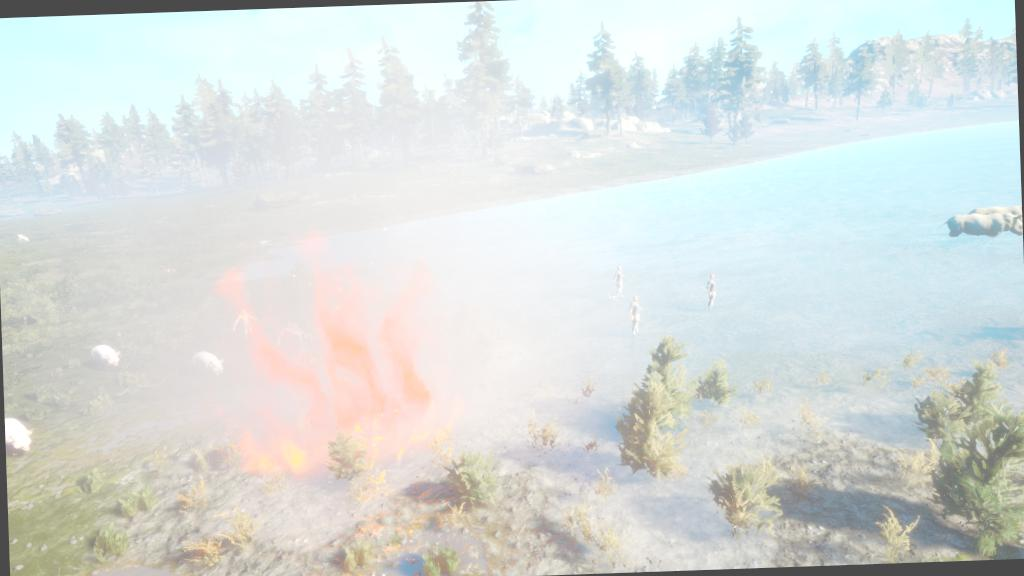Fire: (208, 247, 460, 484)
human: (228, 298, 264, 356), (700, 266, 730, 322), (606, 255, 633, 304), (624, 296, 651, 341)
pig: (82, 334, 131, 380), (4, 406, 45, 460), (185, 346, 230, 386)
rhinoceros: (940, 208, 1016, 249), (962, 200, 1022, 234)
smoke: (198, 149, 570, 484)
